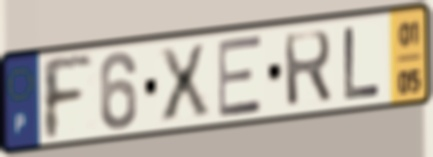6: (97, 49, 139, 133)
E: (215, 32, 265, 121)
F: (37, 53, 96, 144)
L: (341, 23, 384, 103)
R: (281, 27, 334, 110)
X: (155, 40, 213, 126)
